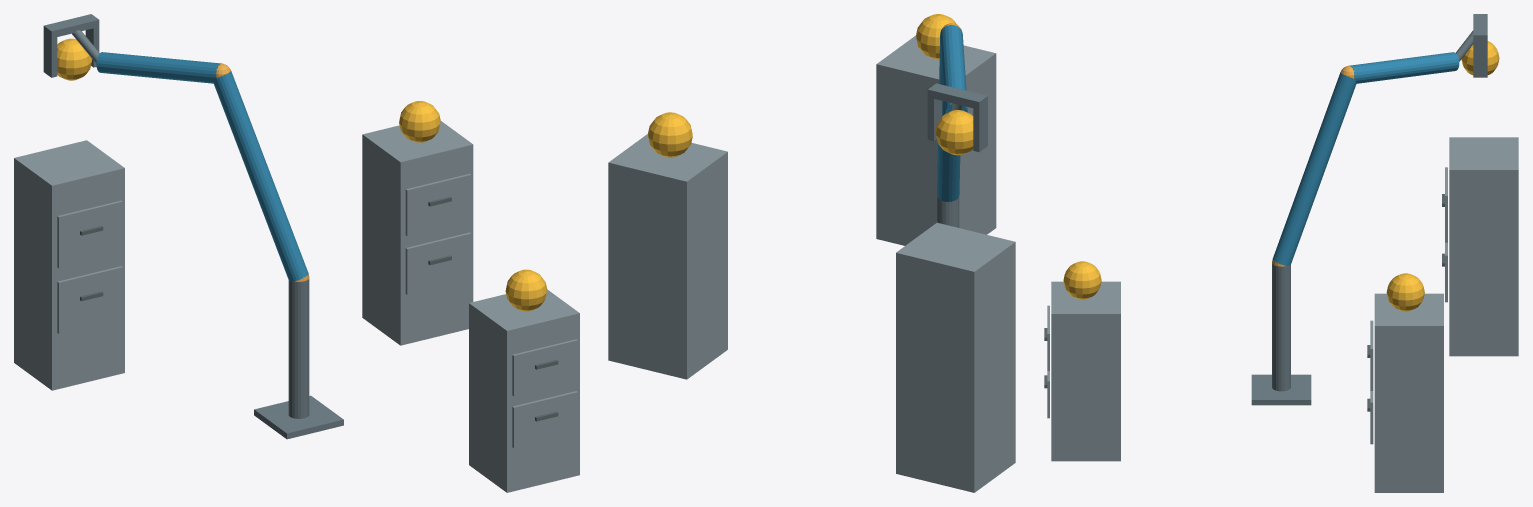
The picture shows the model from 3 angles, left to right: view 1: azimuth 30°, elevation 25°; view 2: azimuth 150°, elevation 25°; view 3: azimuth 270°, elevation 25°; orthographic projection. The views are drawn at different scales.
Parts seen in each view (by area): view 1: cabinet_3 body, cabinet_2 body, cabinet_1 body, moving link 1, cabinet_3 drawer front, cabinet_3 drawer front.001, cabinet_2 drawer front.001, cabinet_2 drawer front, fixed post, cabinet_1 drawer front.001, cabinet_1 drawer front, moving link 2 (+5 smaller); view 2: cabinet_3 body, cabinet_2 body, cabinet_1 body, released ball_2, moving link 2, ball ball_3, moving link 1, released ball_1, gripper bridge, gripper finger -1, fixed post, gripper finger 1; view 3: cabinet_3 body, cabinet_2 body, cabinet_1 body, moving link 1, fixed post, moving link 2, pedestal, released ball_1, released ball_2, ball ball_3, gripper finger 1.
Part boxes in pixels (x1,y1,x2,y2): cabinet_3 body: (14, 140, 124, 390); cabinet_2 body: (362, 121, 473, 345); cabinet_1 body: (469, 289, 579, 492); moving link 1: (213, 71, 308, 281); cabinet_3 drawer front: (57, 266, 122, 333); cabinet_3 drawer front.001: (57, 200, 122, 268); cabinet_2 drawer front.001: (405, 173, 471, 236); cabinet_2 drawer front: (405, 232, 471, 294); fixed post: (288, 278, 309, 418); cabinet_1 drawer front.001: (512, 339, 577, 396); cabinet_1 drawer front: (512, 391, 577, 447); moving link 2: (96, 52, 221, 83); cabinet_3 body: (896, 222, 1015, 492); cabinet_2 body: (608, 134, 727, 379); cabinet_1 body: (876, 35, 996, 245); released ball_2: (648, 112, 692, 157); moving link 2: (940, 25, 967, 113); ball ball_3: (935, 110, 973, 155); moving link 1: (937, 35, 960, 201); released ball_1: (916, 14, 957, 59); gripper bridge: (927, 83, 987, 109); gripper finger -1: (973, 104, 987, 152); fixed post: (937, 196, 959, 227); gripper finger 1: (927, 97, 942, 140); cabinet_3 body: (1449, 137, 1518, 356); cabinet_2 body: (1374, 293, 1443, 492); cabinet_1 body: (1051, 281, 1120, 461); moving link 1: (1272, 72, 1356, 265); fixed post: (1272, 263, 1290, 391); moving link 2: (1349, 52, 1459, 83); pedestal: (1251, 374, 1311, 405); released ball_1: (1063, 261, 1101, 299); released ball_2: (1386, 273, 1424, 311); ball ball_3: (1461, 41, 1499, 75); gripper finger 1: (1473, 41, 1487, 77).
Bounding box in the file's own units: 1.67 × 1.46 × 1.98.
